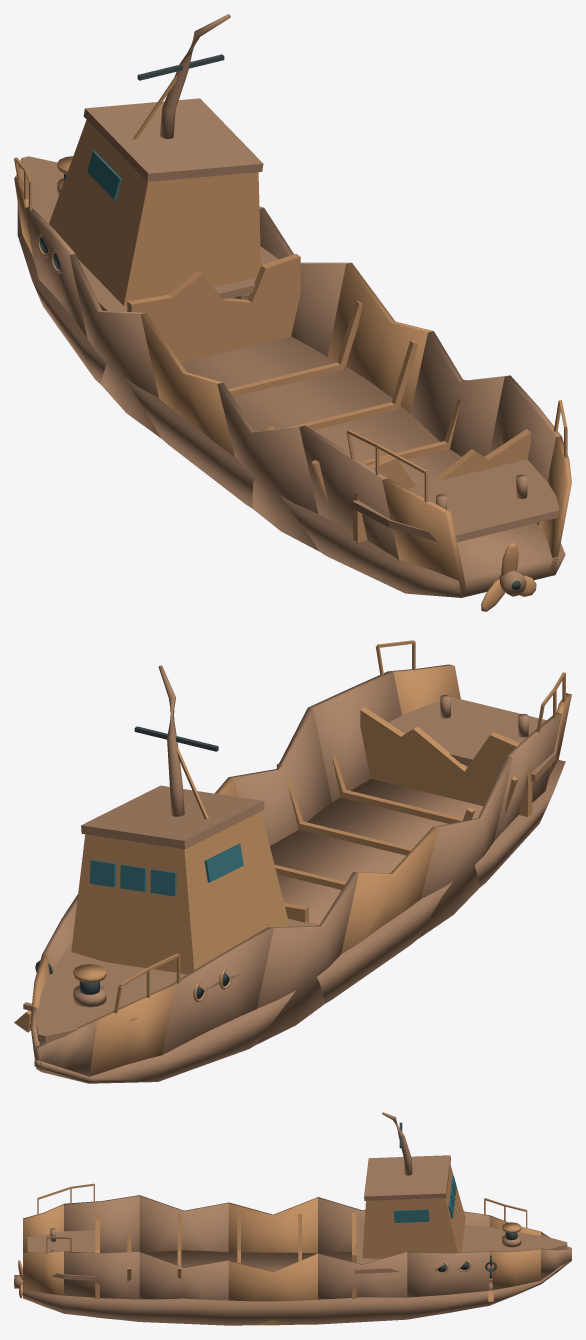
The model's file is ENV_BeachedWreck.fbx.
The picture shows the model from 3 angles, top to bottom: view 1: azimuth 30°, elevation 25°; view 2: azimuth 150°, elevation 25°; view 3: azimuth 270°, elevation 25°; orthographic projection. The views are drawn at different scales.
Visible parts, largest first — view 1: ENV_BeachedWreck_Root_Visual; view 2: ENV_BeachedWreck_Root_Visual; view 3: ENV_BeachedWreck_Root_Visual.
Part boxes in pixels (<box>): ENV_BeachedWreck_Root_Visual: <box>14,14,571,611</box>; ENV_BeachedWreck_Root_Visual: <box>14,640,571,1083</box>; ENV_BeachedWreck_Root_Visual: <box>14,1112,571,1325</box>.
Bounding box in the file's own units: 213 × 325 × 813.
